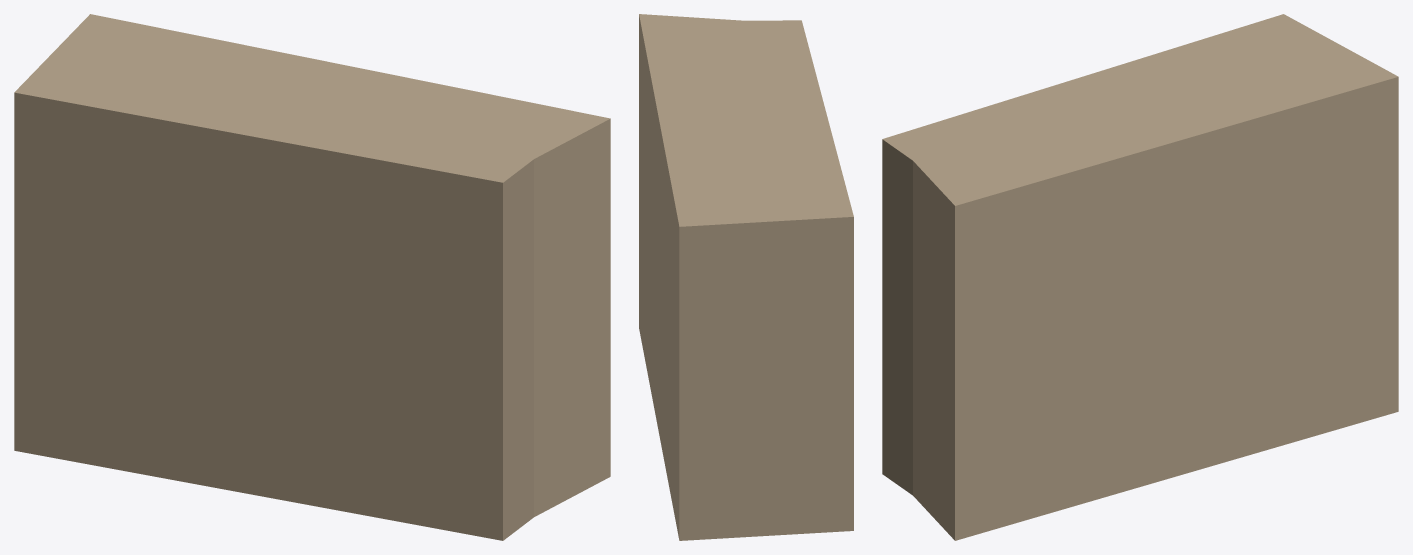
Rendered from bld_99003274.dae.
3 views of the same model, side by side, from view 1: azimuth 30°, elevation 25°; view 2: azimuth 150°, elevation 25°; view 3: azimuth 270°, elevation 25° (orthographic). The views are drawn at different scales.
Parts seen in each view (by area): view 1: Suzi M; view 2: Suzi M; view 3: Suzi M.
Boxes of the visible parts, box(x1,y1,x2,y2) form: Suzi M: box(14, 14, 610, 540); Suzi M: box(639, 14, 853, 540); Suzi M: box(882, 14, 1398, 540).
Bounding box in the file's own units: 9.84 × 11.18 × 8.
